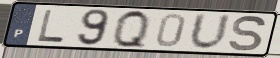0: (153, 12, 187, 50)
9: (75, 8, 111, 47)
L: (36, 8, 67, 43)
Q: (112, 8, 151, 51)
S: (228, 14, 268, 53)
U: (187, 11, 233, 52)
